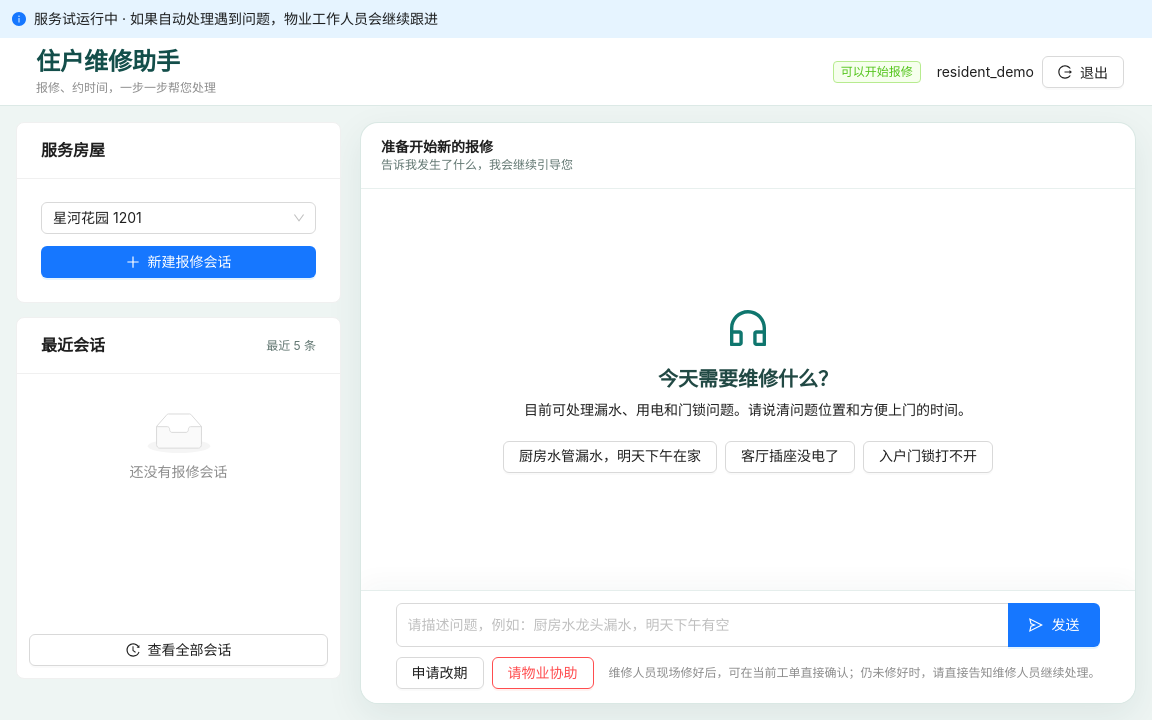
Test case: renders a resident message and the agent reply
Type "家里漏水" into the field with placeholder "请描述问题，例如：厨房水龙头漏水，明天下午有空" at (702, 625), box 396,603 -> 1009,647
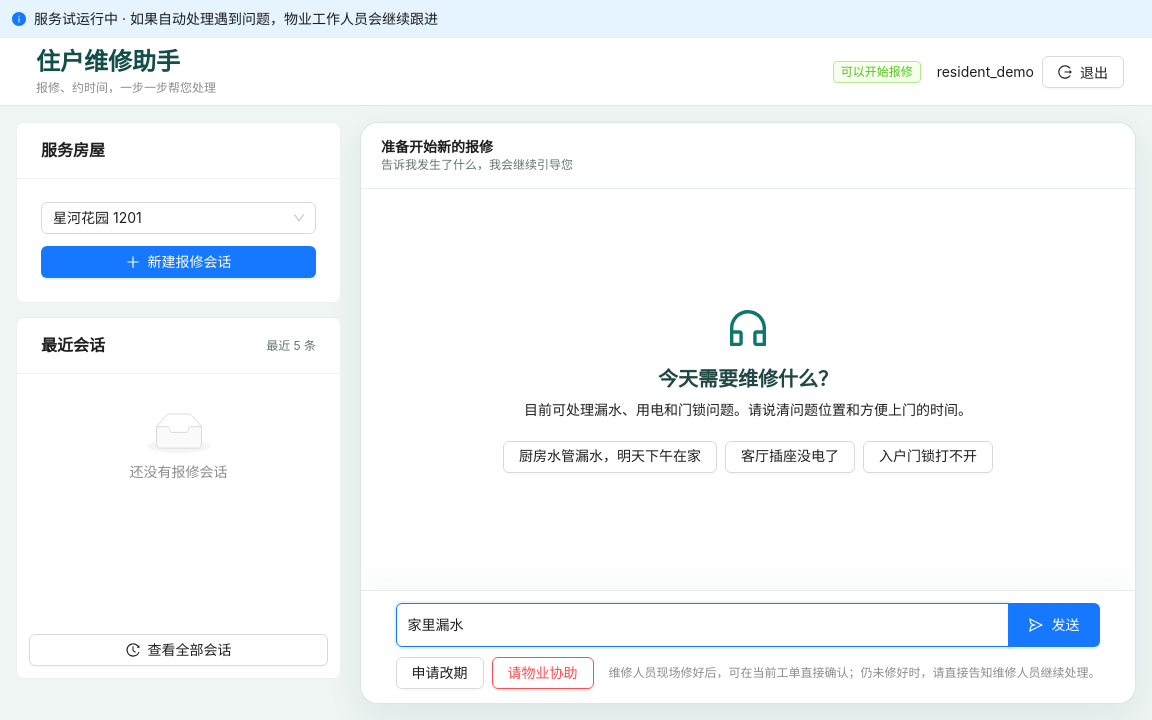
Click the button "发送" at (1054, 625), box 1008,603 -> 1100,647
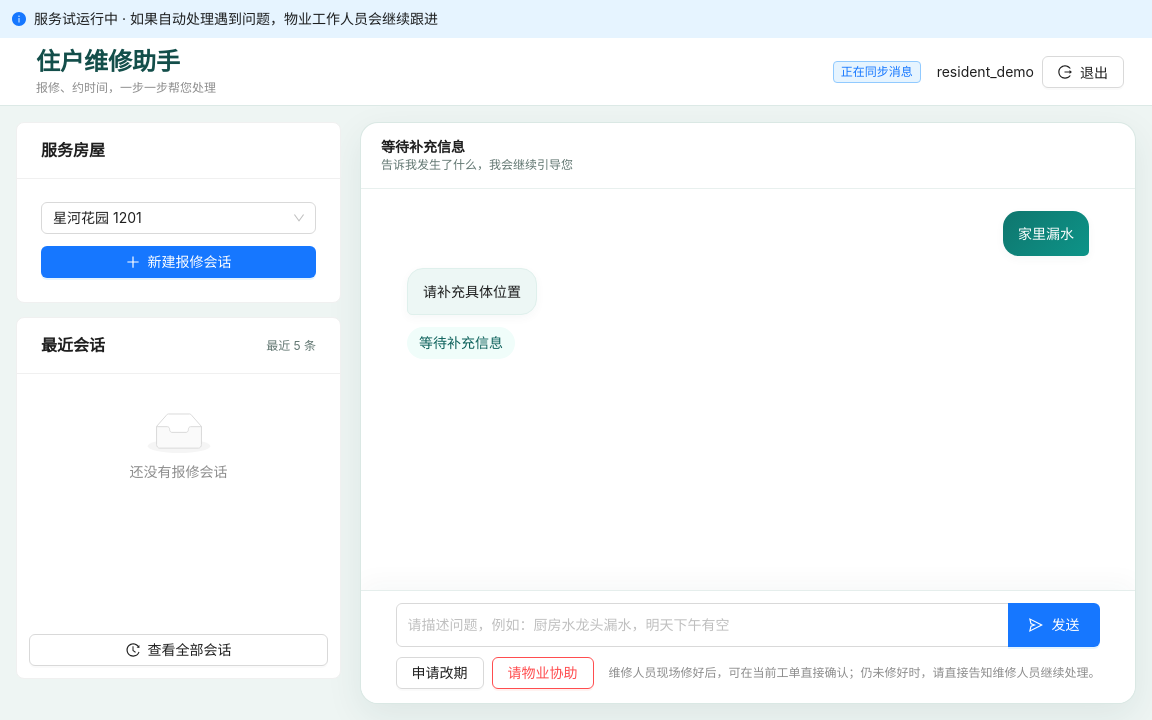
Expected: the text "家里漏水" is shown, 1003,211 -> 1089,256
Expected: the text "请补充具体位置" is shown, 407,268 -> 537,315
